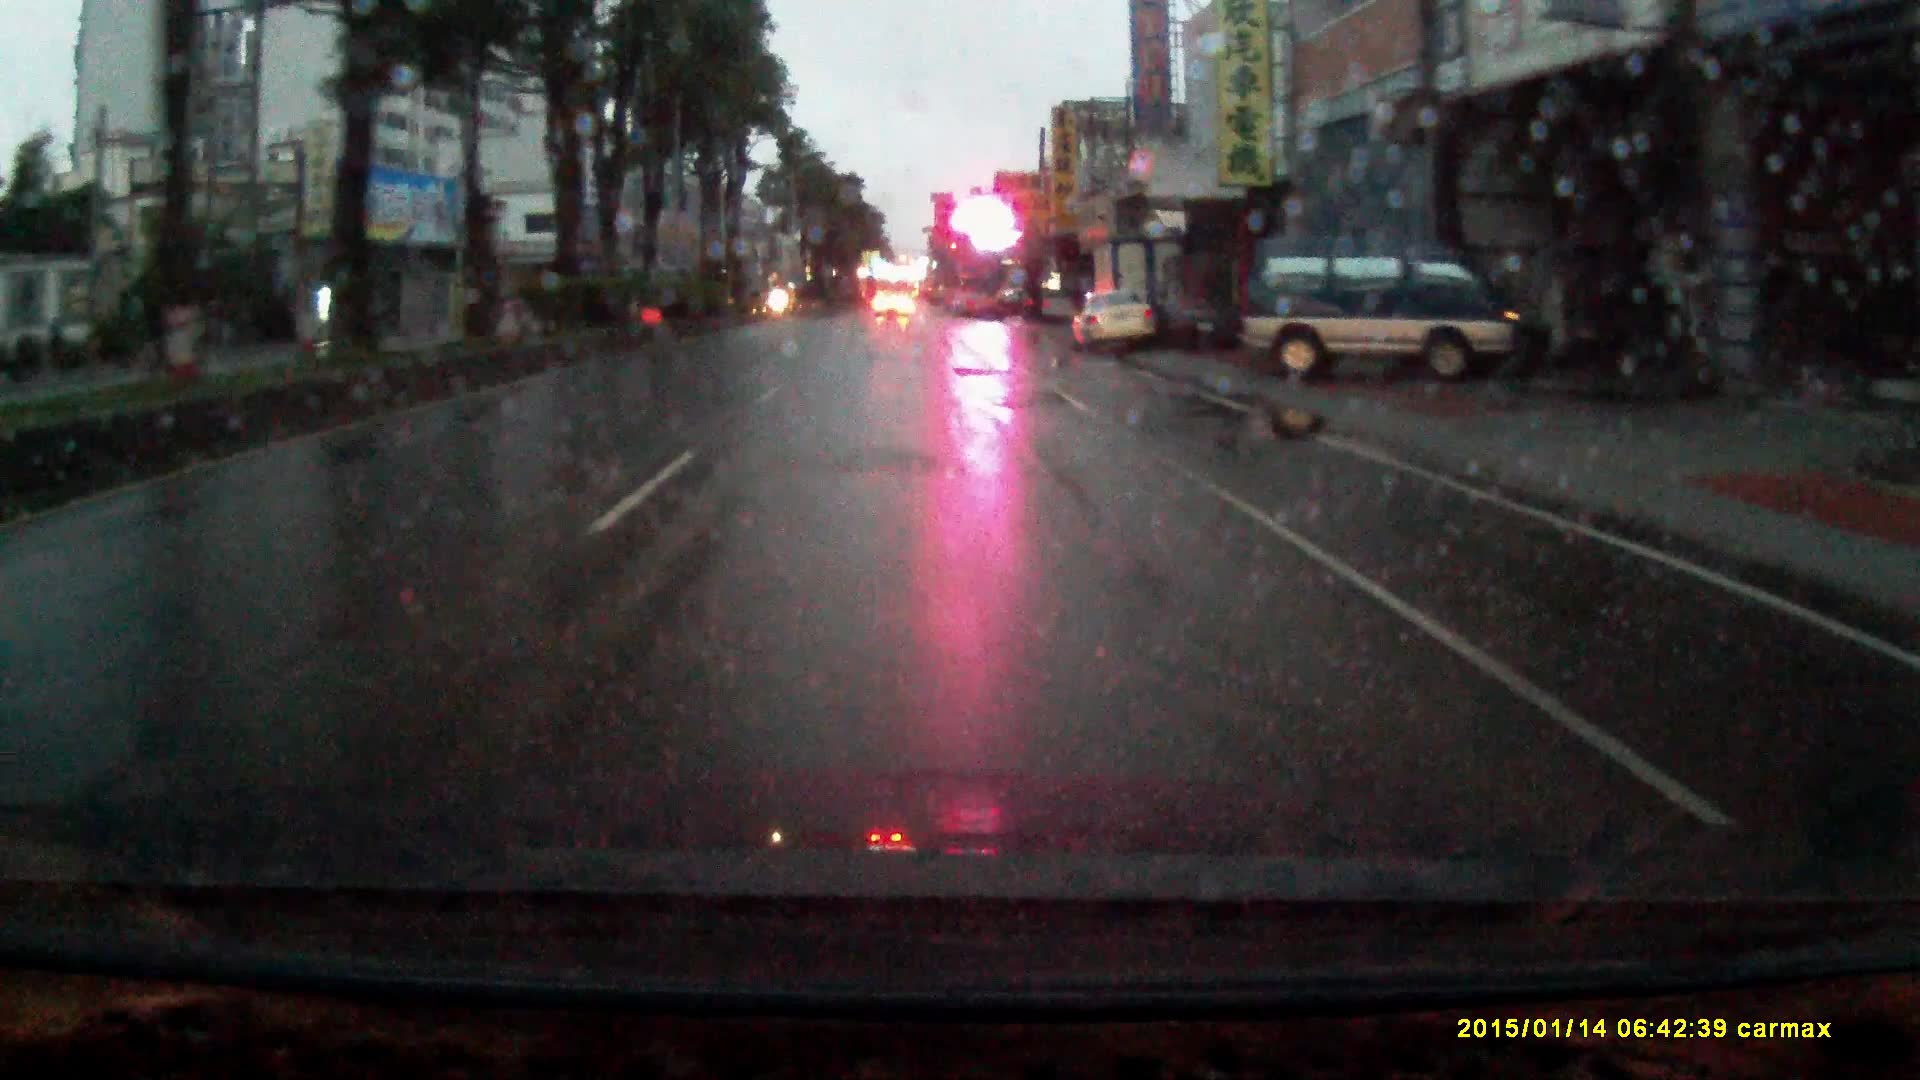vehicle: (1238, 237, 1531, 392), (1088, 240, 1192, 357), (1071, 290, 1159, 361), (876, 289, 913, 323)
